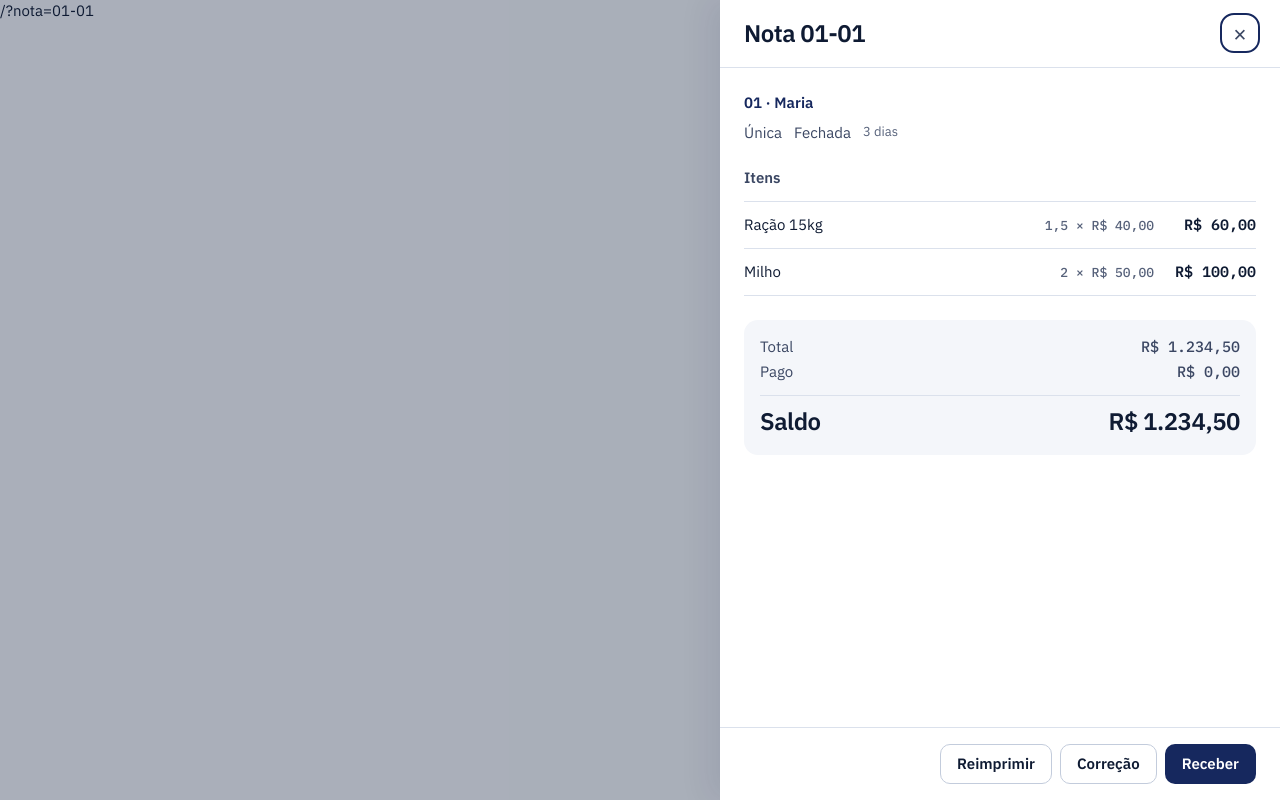
Scenario: Receber › abre com o valor igual ao saldo, a forma Dinheiro e o foco no valor, no lugar das ações da nota
Click the button "Receber": {"x": 1210, "y": 764} [1165,744,1256,784]
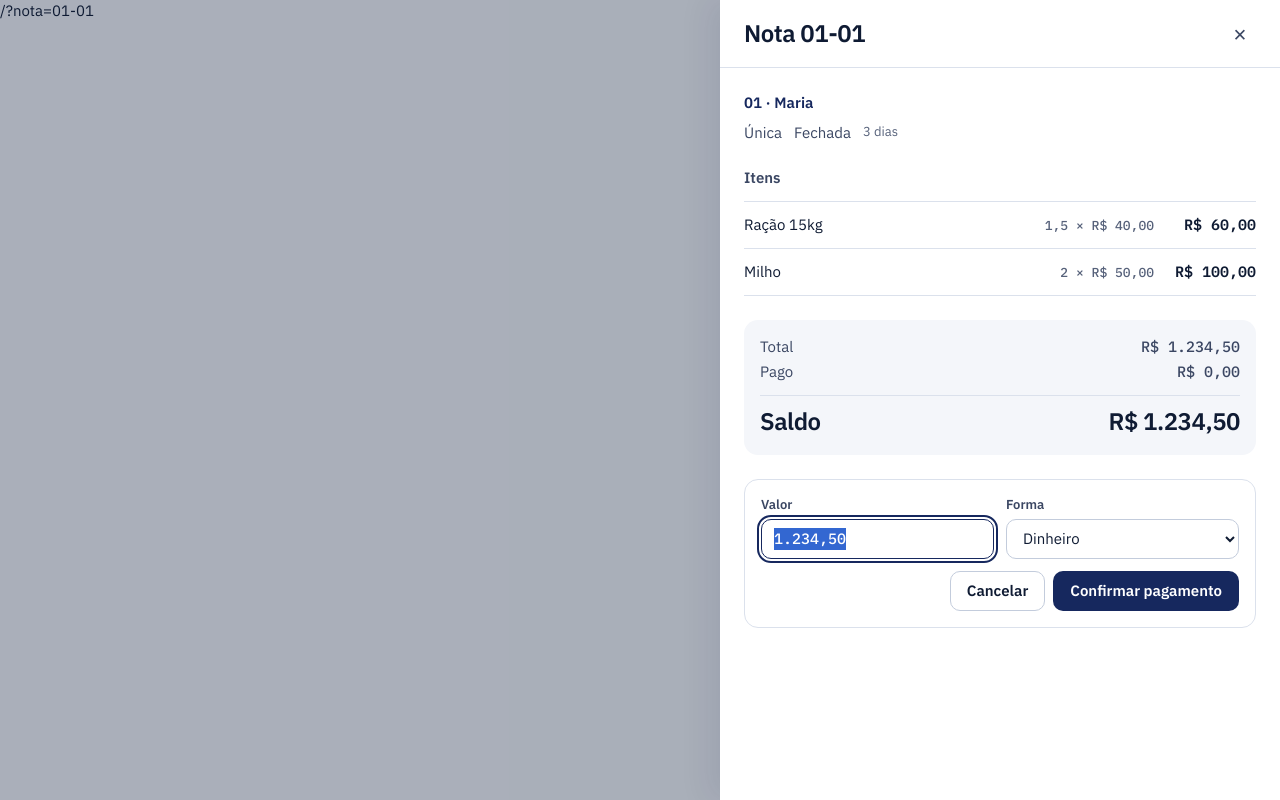
expect the form named "Receber pagamento" is shown: met, box [744,479,1256,628]
expect the field labelled "Valor" holds "1.234,50": met, box [761,519,994,559]
expect the dropdown labelled "Forma" shows "Dinheiro": met, box [1006,519,1239,559]
